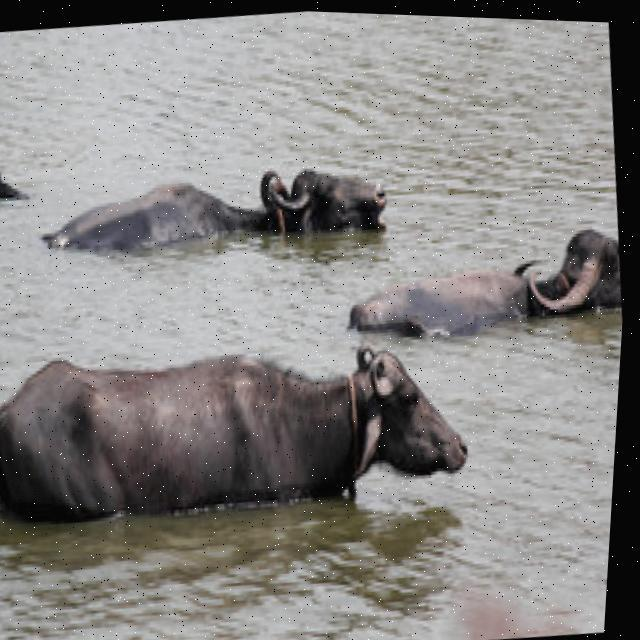Buffalo: (0, 301, 473, 537)
